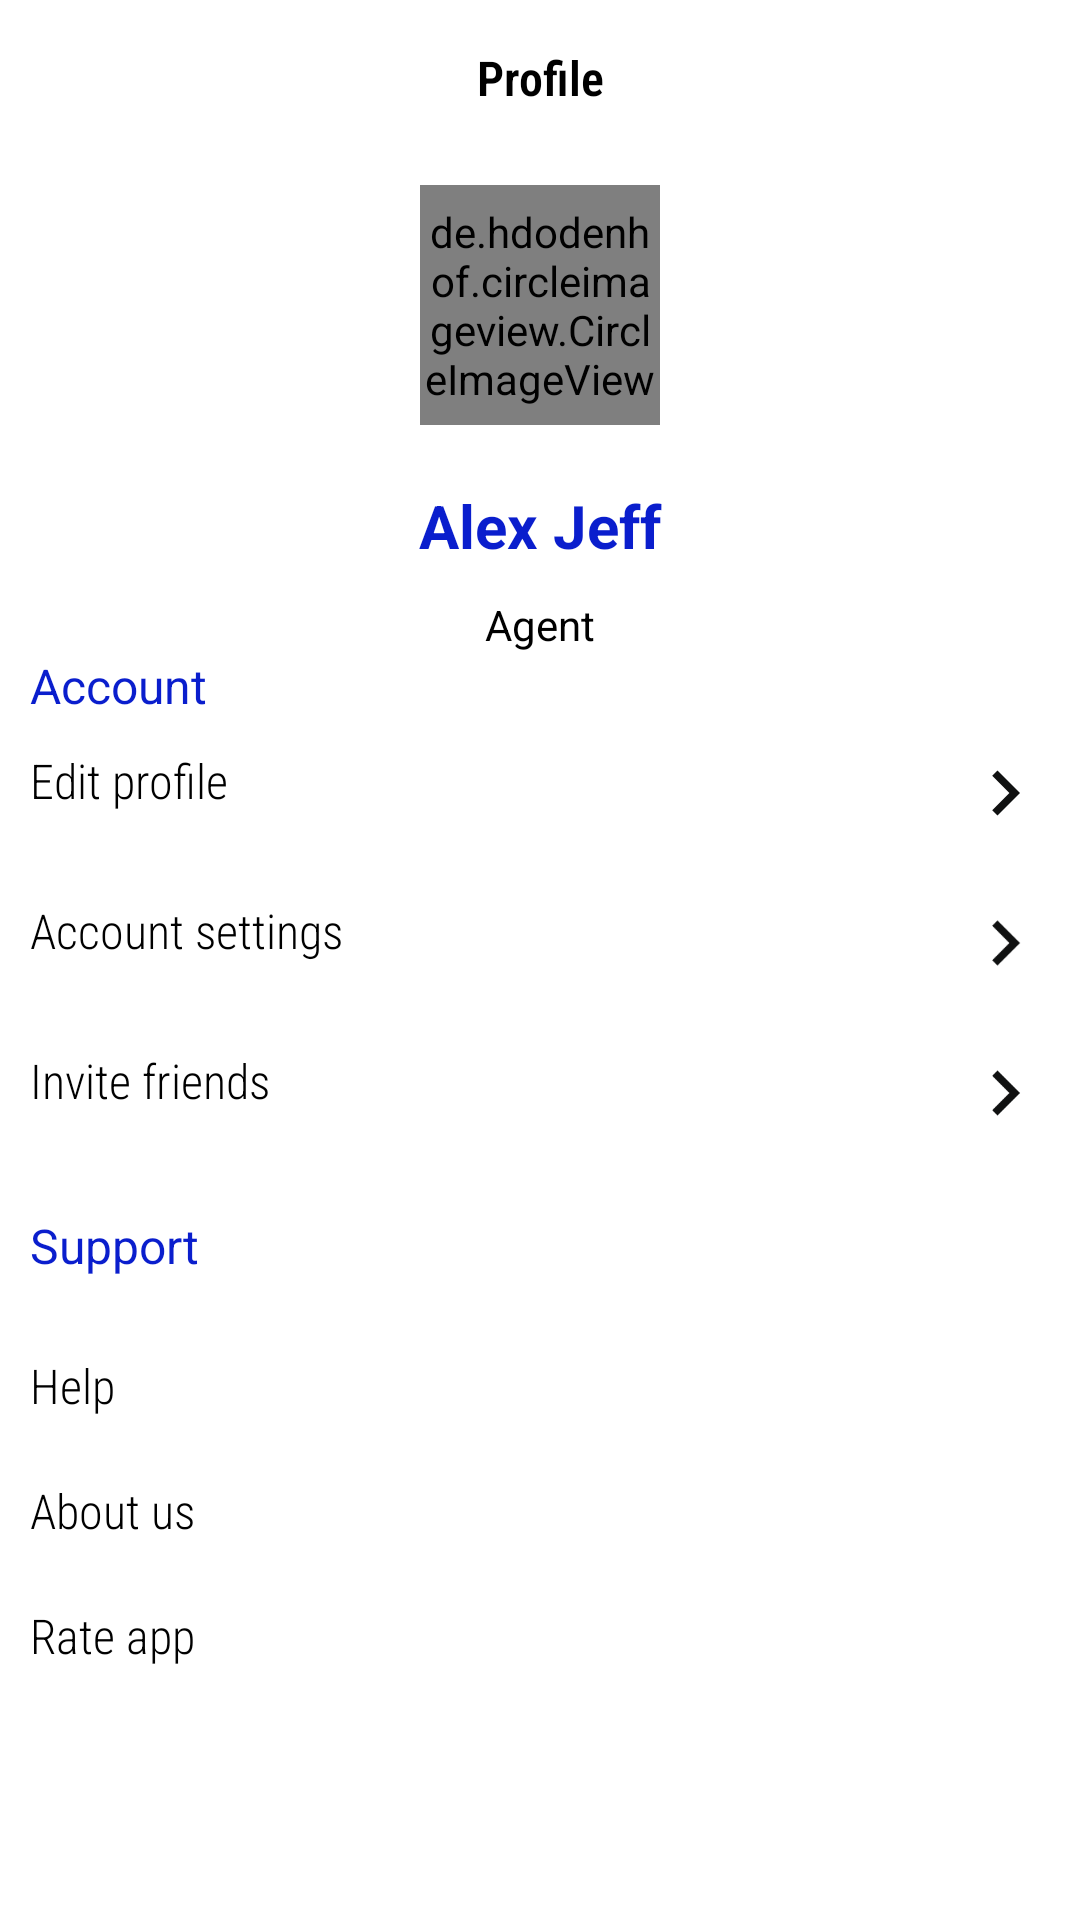

Where to tap for icons on this 1080px x 1920px app screen, as point (x, y):
more: point (1006, 793), point (1006, 943), point (1006, 1093)
